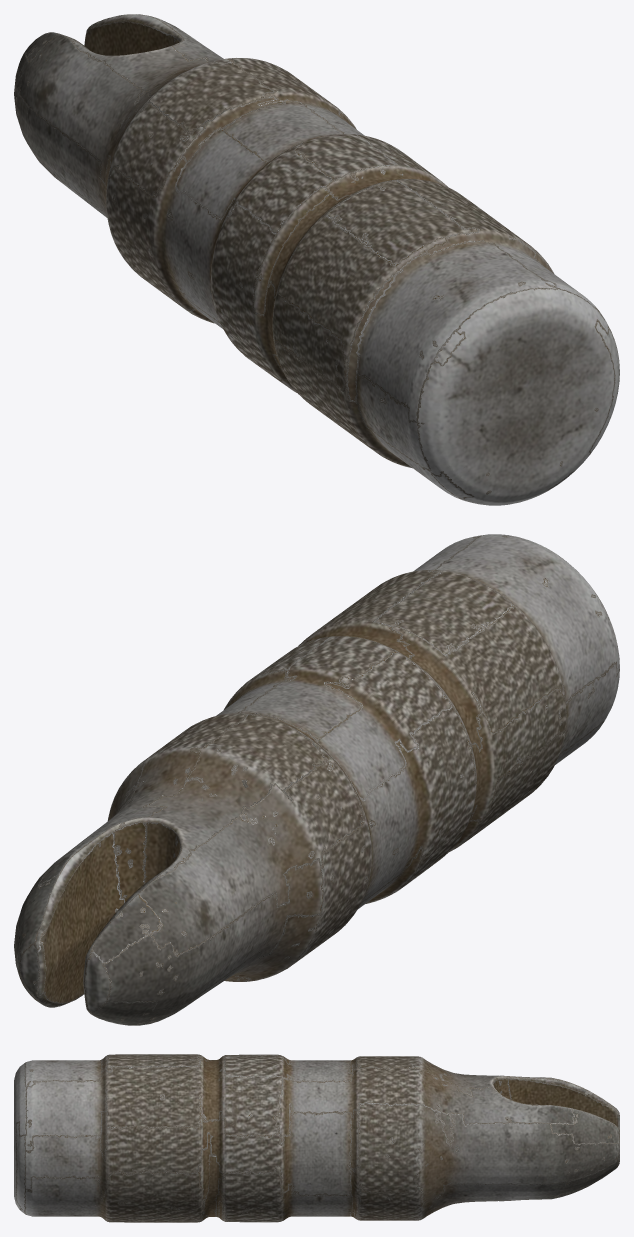
3 views of the same model, one above another, from view 1: azimuth 30°, elevation 25°; view 2: azimuth 150°, elevation 25°; view 3: azimuth 270°, elevation 25° (orthographic). The views are drawn at different scales.
Size of the model in its own units: 0.5463 by 0.5463 by 1.96.
1 material, 1 textured.
